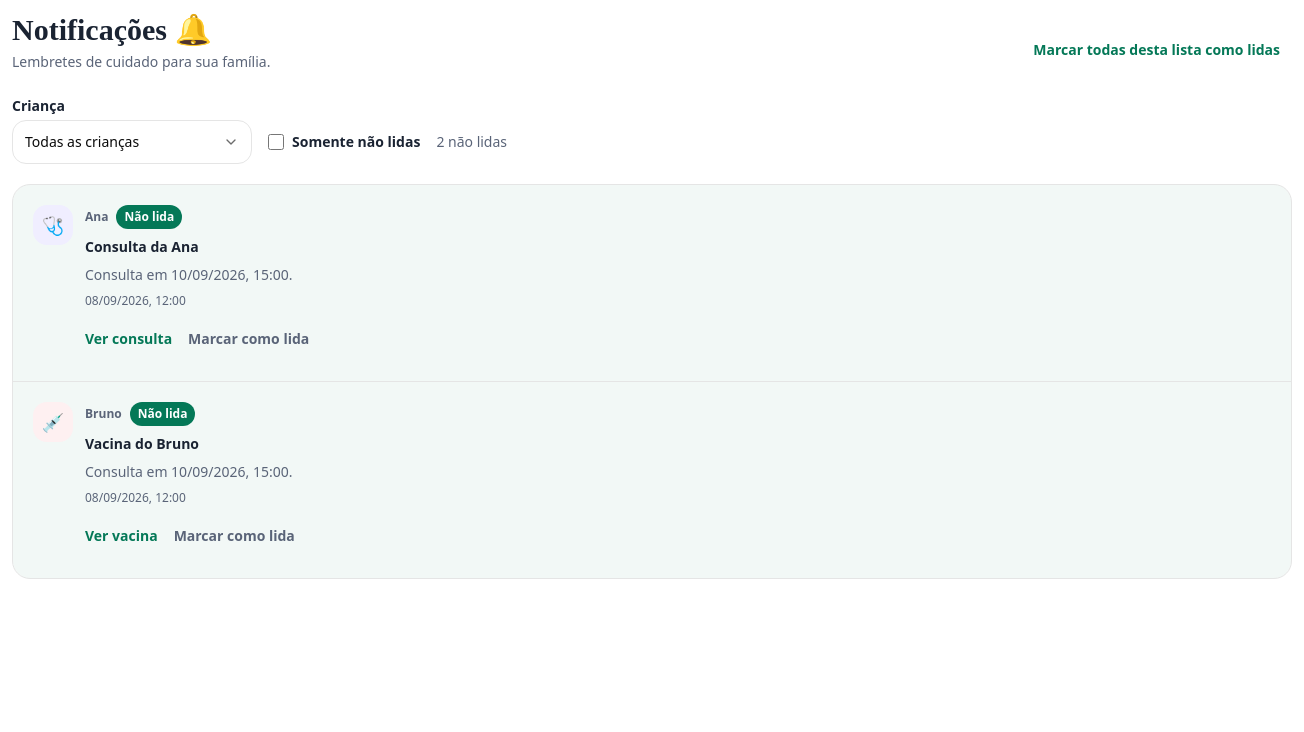
Scenario: marks a single notification read from its own button
Expected: the heading "Consulta da Ana" is shown, [85,237,199,256]
What coordinates should you click on to do the following:
click the button "Marcar como lida" below "Consulta da Ana"
I would click on:
 (249, 339)
Its box is [188,317,309,361].
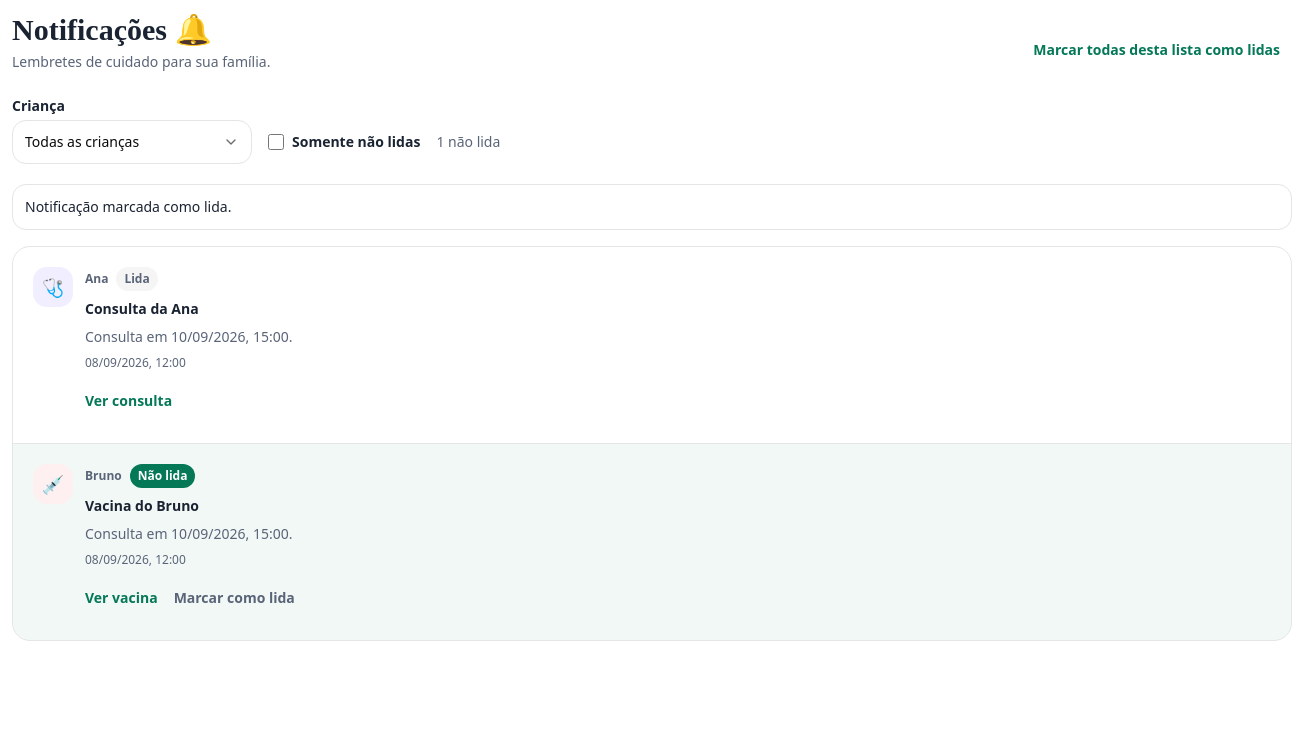
Expected: the text "Notificação marcada como lida." is shown, [12,184,1292,230]
